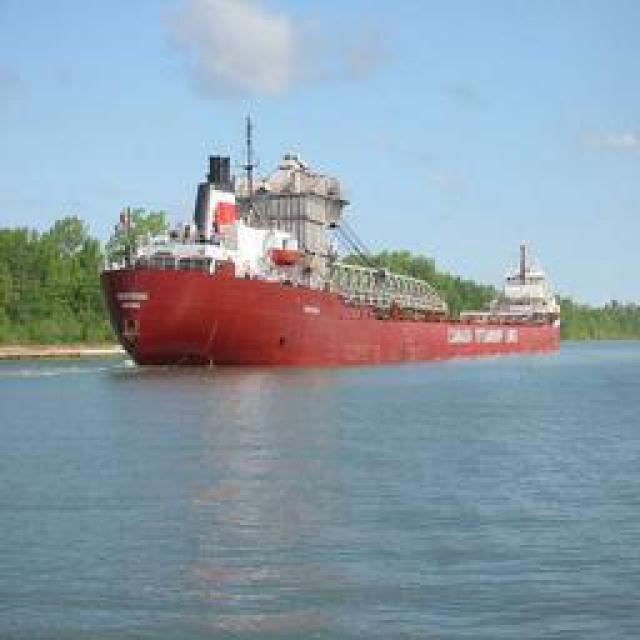Ship: (104, 115, 554, 373)
